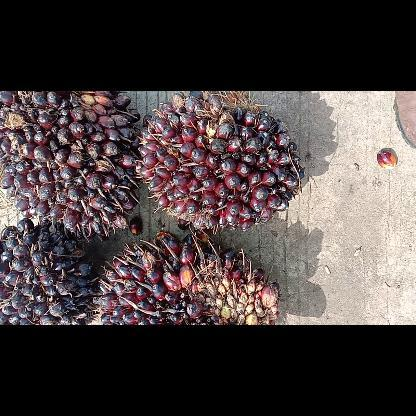TBS mentah: (134, 91, 306, 237), (0, 91, 145, 238), (92, 228, 280, 324), (0, 214, 103, 325)
